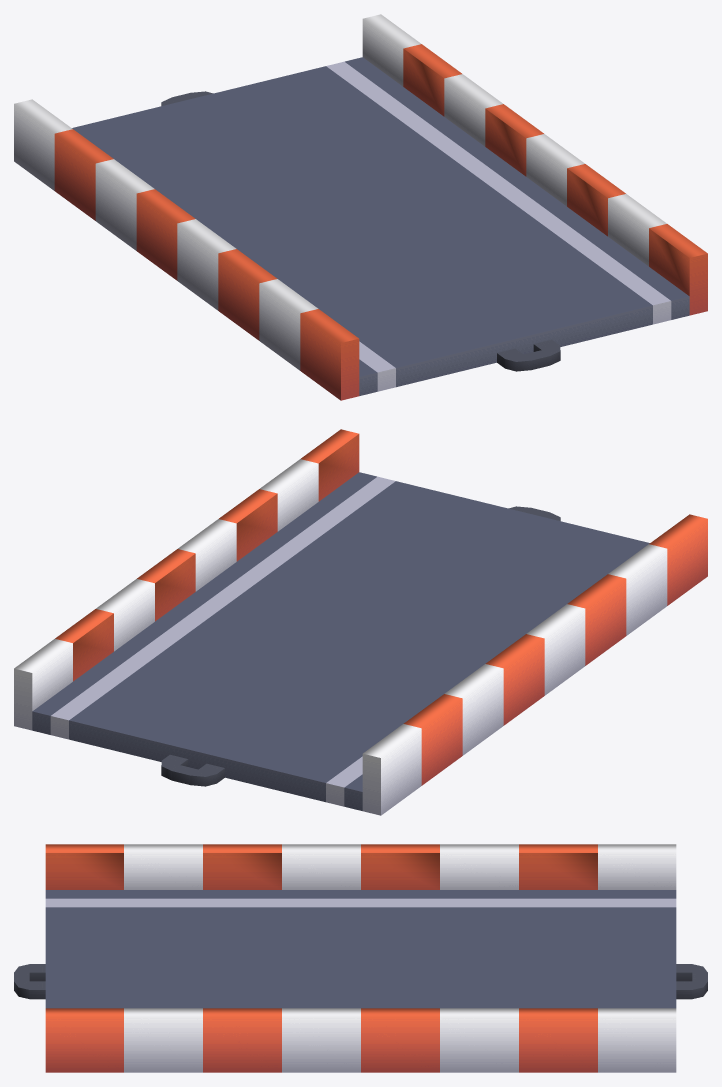
File: track-road-wide-straight.040_lev1.glb
3 views of the same model, one above another, from view 1: azimuth 30°, elevation 25°; view 2: azimuth 150°, elevation 25°; view 3: azimuth 270°, elevation 25° (orthographic). The views are drawn at different scales.
Parts seen in each view (by area): view 1: track-road-wide-straight.040_lev1; view 2: track-road-wide-straight.040_lev1; view 3: track-road-wide-straight.040_lev1.
Part boxes in pixels (box(x1,y1,x2,y2)): track-road-wide-straight.040_lev1: box(14, 14, 707, 400); track-road-wide-straight.040_lev1: box(14, 429, 707, 815); track-road-wide-straight.040_lev1: box(14, 844, 707, 1072).
Size of the model in its own units: 2 by 0.3 by 3.39.
1 material, 1 textured.
